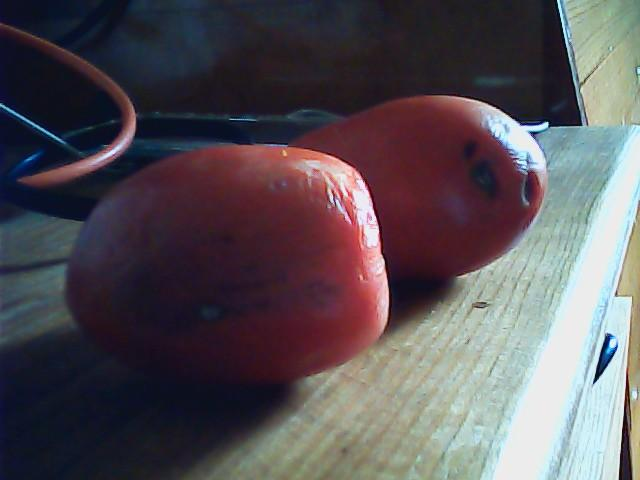defectuoso: (61, 148, 386, 389), (268, 96, 552, 283)
